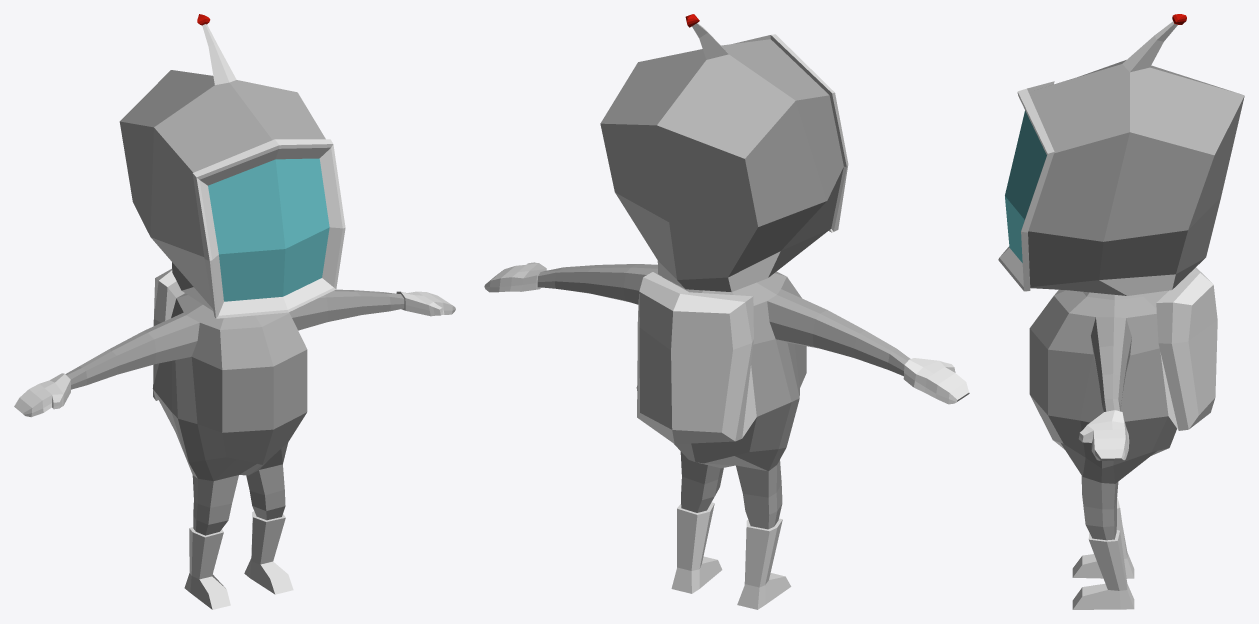
File: crater.fbx
3 renders of one model, left to right at view 1: azimuth 30°, elevation 25°; view 2: azimuth 150°, elevation 25°; view 3: azimuth 270°, elevation 25°, orthographic. The views are drawn at different scales.
Visible parts, largest first — view 1: Cube; view 2: Cube; view 3: Cube.
Boxes of the visible parts, x1,y1,x2,y2 form: Cube: [14, 14, 455, 609]; Cube: [484, 14, 969, 609]; Cube: [998, 14, 1244, 609].
Bounding box in the file's own units: 7.2 × 8.71 × 3.39.
